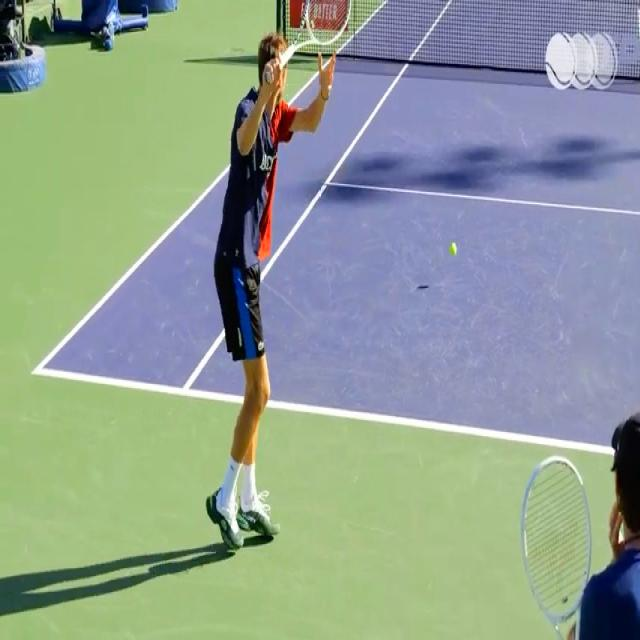forehand-ready: (206, 4, 353, 558)
